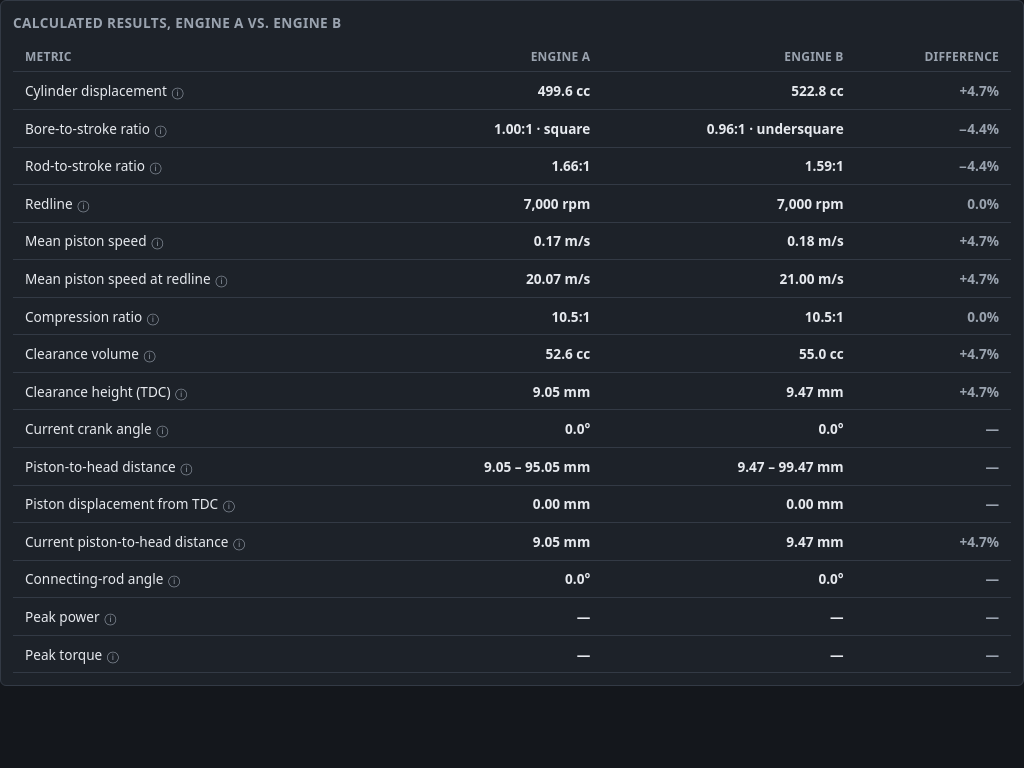
Test: ComparisonTable › metric info popups › closes the open explainer on Escape
Click the button "Cylinder displacement ⓘ" at point(96, 91), box x1=25 y1=79 x2=385 y2=103
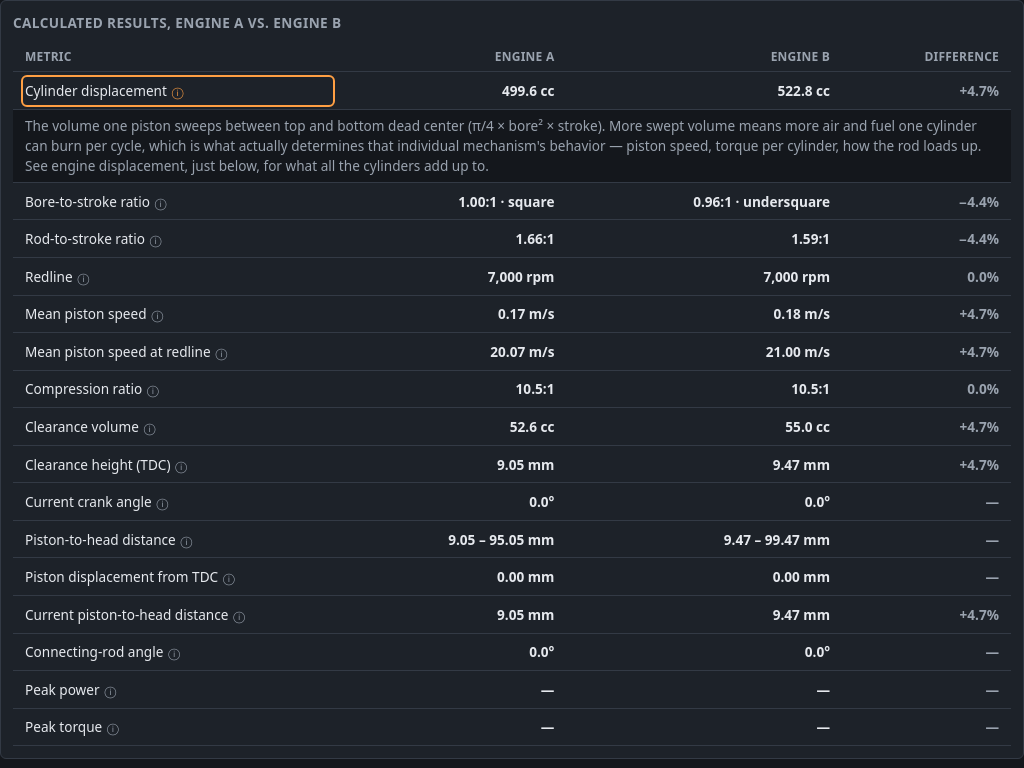
expect the button "Cylinder displacement ⓘ" is expanded: met, box x1=25 y1=79 x2=331 y2=103
Press Escape
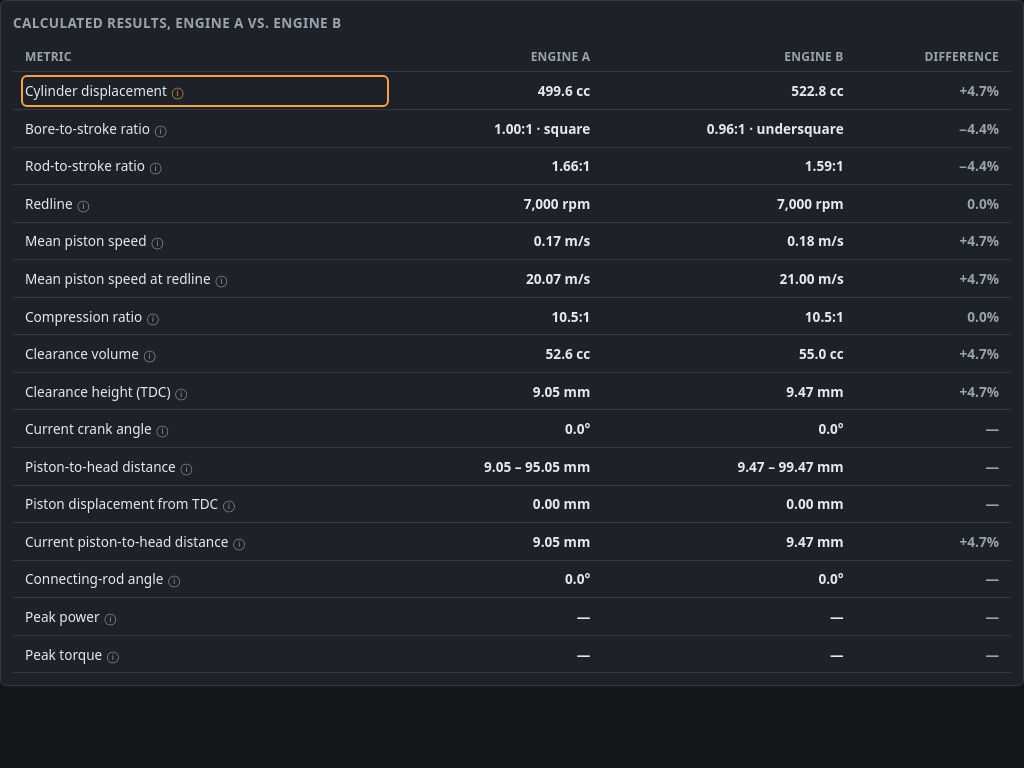
expect the button "Cylinder displacement ⓘ" is collapsed: met, box x1=25 y1=79 x2=385 y2=103
